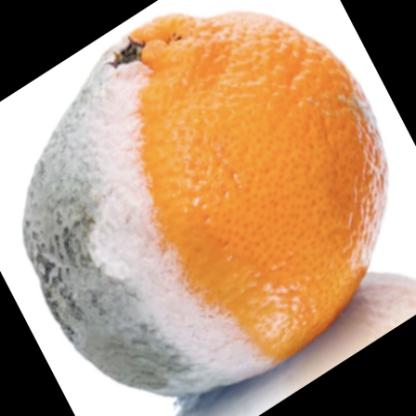rotten: (26, 14, 388, 399)
